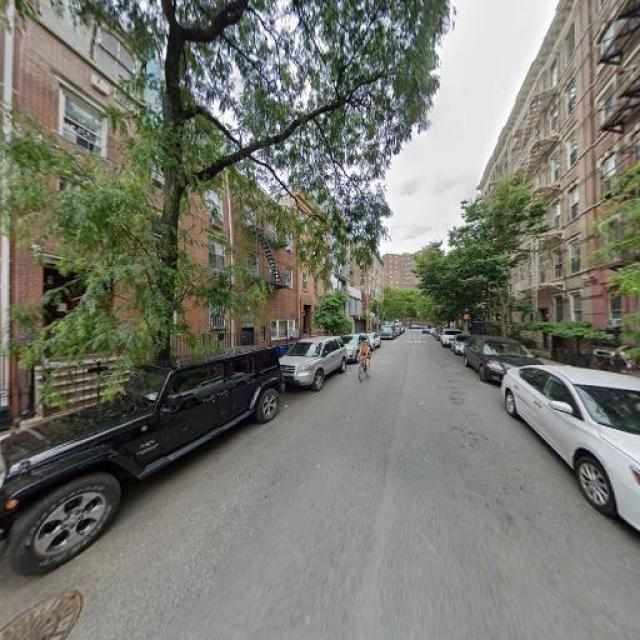Building: (12, 1, 232, 425), (523, 1, 592, 358), (599, 1, 640, 369), (234, 169, 298, 367), (489, 117, 517, 342), (299, 192, 328, 349), (1, 1, 3, 429)
